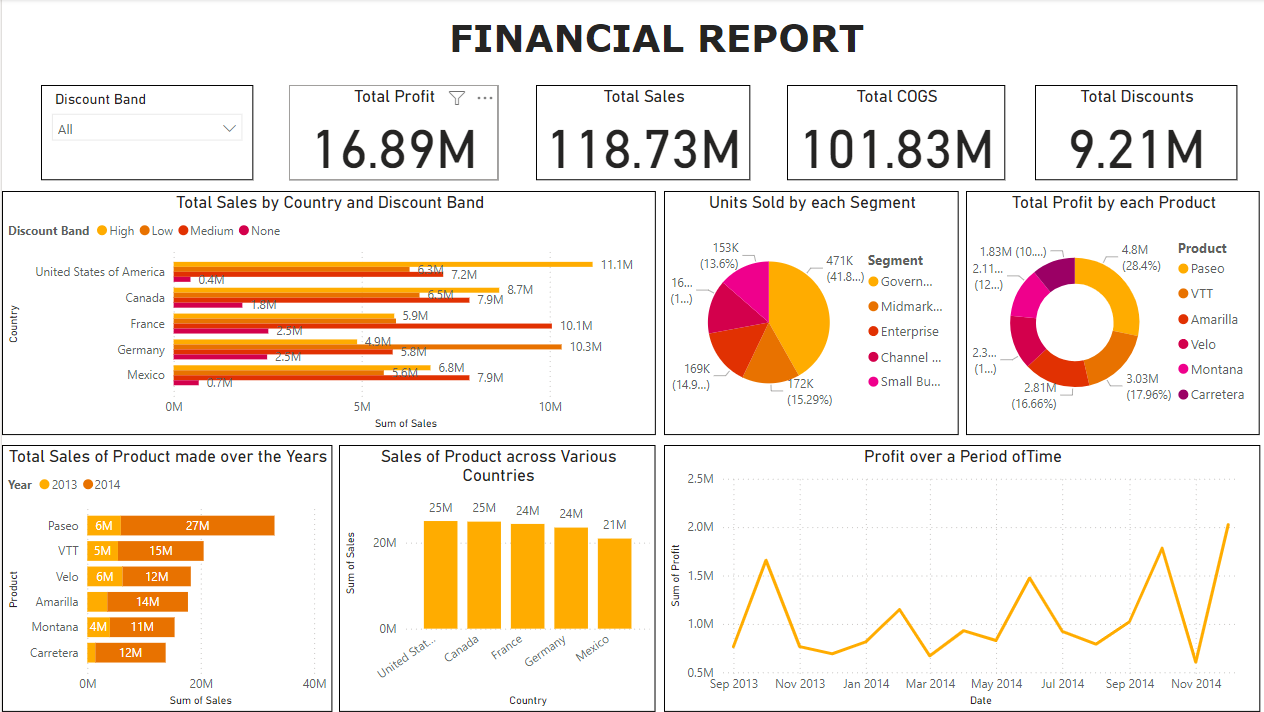

Layout of this report page (visuals, bound fields, positions):
{"tool":"powerbi","page":{"name":"Page 1","canvas":[1280,720],"ordinal":0},"visuals":[{"type":"columnChart","title":"Sales of Product across Various Countries","fields":{"Category":["financials.Country"],"Y":["Sum(financials. Sales)"]},"box":[339.7,449.5,319.5,269.1],"z":0},{"type":"pieChart","title":"Units Sold by each Segment","fields":{"Category":["financials.Segment"],"Y":["Sum(financials.Units Sold)"]},"box":[667.2,193.5,297.3,245.9],"z":1000},{"type":"barChart","title":"Total Sales of Product made over the Years","fields":{"Category":["financials.Product"],"Y":["Sum(financials. Sales)"],"Series":["financials.Year"]},"box":[0,449.5,332.6,269.1],"z":2000},{"type":"donutChart","title":"Total Profit by each Product","fields":{"Category":["financials.Product"],"Y":["Sum(financials.Profit)"]},"box":[971.6,193.5,296.3,245.9],"z":3000},{"type":"lineChart","title":"Profit over a Period ofTime","fields":{"Y":["Sum(financials.Profit)"],"Category":["financials.Date"]},"box":[667.2,449.5,600.7,269.1],"z":4000},{"type":"card","title":"Total Profit","fields":{"Values":["Sum(financials.Profit)"]},"box":[289.3,86.7,210.6,95.7],"z":6000},{"type":"card","title":"Total Sales","fields":{"Values":["Sum(financials. Sales)"]},"box":[538.2,86.7,215.7,95.7],"z":7000},{"type":"card","title":"Total Discounts","fields":{"Values":["Sum(financials.Discounts)"]},"box":[1041.1,86.7,203.6,95.7],"z":8000},{"type":"card","title":"Total COGS","fields":{"Values":["Sum(financials.COGS)"]},"box":[791.2,86.7,219.7,95.7],"z":9000},{"type":"clusteredBarChart","title":"Total Sales by Country and Discount Band","fields":{"Category":["financials.Country"],"Series":["financials.Discount Band"],"Y":["Sum(financials. Sales)"]},"box":[0,193.5,659.1,245.9],"z":10000},{"type":"textbox","box":[362.5,10,593.6,68.5],"z":11000},{"type":"slicer","fields":{"Values":["financials.Discount Band"]},"box":[39.3,86.7,213.7,95.7],"z":12000}]}

Visuals, with their boxes in screenshot pixels (x1, y1, x2, y2), scaled from the page's 1280x720 canvas onto the 1264x712 screenshot:
"Sales of Product across Various Countries" columnChart: (335,445,651,711)
"Units Sold by each Segment" pieChart: (659,191,952,435)
"Total Sales of Product made over the Years" barChart: (0,445,328,711)
"Total Profit by each Product" donutChart: (959,191,1252,435)
"Profit over a Period ofTime" lineChart: (659,445,1252,711)
"Total Profit" card: (286,86,494,180)
"Total Sales" card: (531,86,744,180)
"Total Discounts" card: (1028,86,1229,180)
"Total COGS" card: (781,86,998,180)
"Total Sales by Country and Discount Band" clusteredBarChart: (0,191,651,435)
textbox: (358,10,944,78)
slicer - financials.Discount Band: (39,86,250,180)
